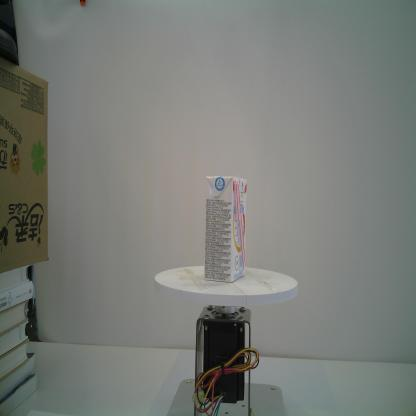Milk: (204, 175, 247, 282)
